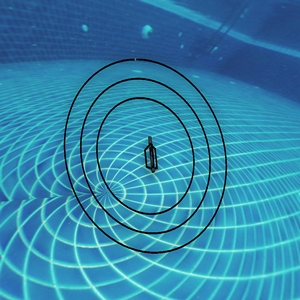circle: (48, 50, 240, 265)
